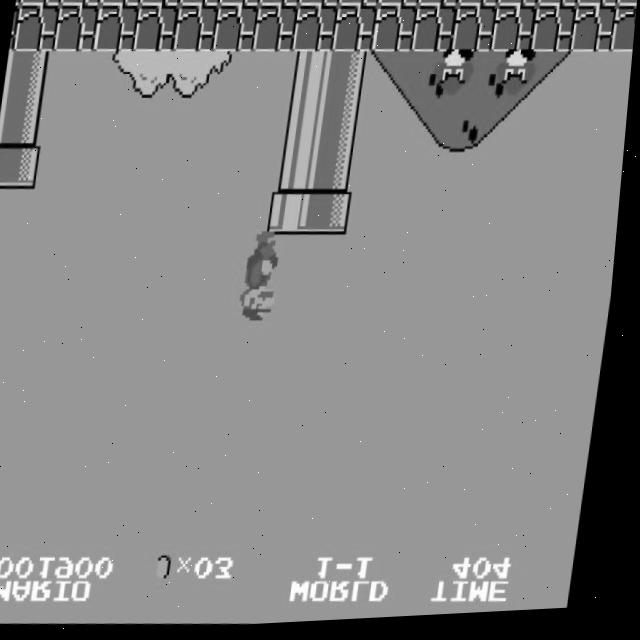0- big_mario: (237, 233, 292, 331)
14- pipe: (287, 53, 334, 103), (3, 96, 50, 145), (327, 54, 374, 103), (9, 50, 55, 100), (282, 99, 328, 149), (322, 99, 368, 149), (276, 145, 322, 194), (316, 146, 362, 195), (5, 51, 15, 98), (0, 97, 9, 143)
15- pipe_head: (271, 190, 317, 240), (311, 191, 357, 241), (0, 142, 44, 191), (0, 143, 3, 189)
17- undestructible_block: (213, 6, 260, 56), (293, 7, 340, 57), (253, 7, 300, 56), (412, 9, 459, 58), (15, 4, 61, 54), (54, 4, 100, 54), (94, 5, 140, 55), (134, 5, 180, 55), (174, 6, 220, 56), (333, 7, 379, 57), (373, 8, 419, 58), (452, 9, 498, 59), (492, 9, 538, 59), (532, 10, 578, 60), (572, 10, 618, 60), (612, 11, 637, 60), (577, 0, 621, 15), (537, 0, 581, 14), (498, 0, 541, 14), (378, 0, 422, 13), (418, 0, 462, 13), (458, 0, 502, 13), (338, 0, 382, 12), (10, 6, 21, 52), (298, 0, 342, 11), (179, 0, 222, 10), (219, 0, 262, 10), (259, 0, 302, 10), (59, 0, 102, 9), (99, 0, 142, 9), (139, 0, 182, 9), (19, 0, 62, 8), (617, 0, 639, 15), (16, 0, 22, 6)
8- goomba: (429, 52, 479, 105), (492, 53, 541, 106)
